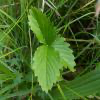Strawberry leaf: (33, 44, 62, 95), (26, 5, 58, 46), (53, 33, 78, 76)
